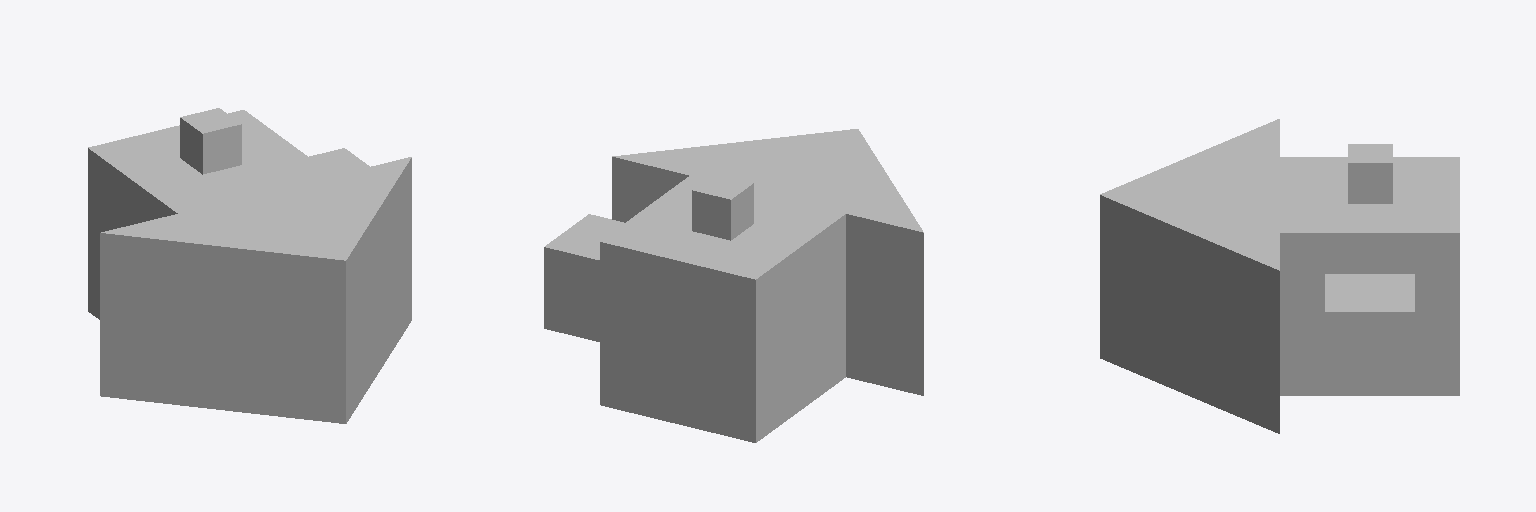
Rendered from directional.obj.
3 renders of one model, left to right at view 1: azimuth 30°, elevation 25°; view 2: azimuth 150°, elevation 25°; view 3: azimuth 270°, elevation 25°, orthographic.
Visible parts, largest first — view 1: Cube.002; view 2: Cube.002; view 3: Cube.002.
Boxes of the visible parts, <box> form: Cube.002: <box>88,108,411,423</box>; Cube.002: <box>544,129,923,442</box>; Cube.002: <box>1100,119,1459,433</box>.
Bounding box in the file's own units: 1 × 0.625 × 1.